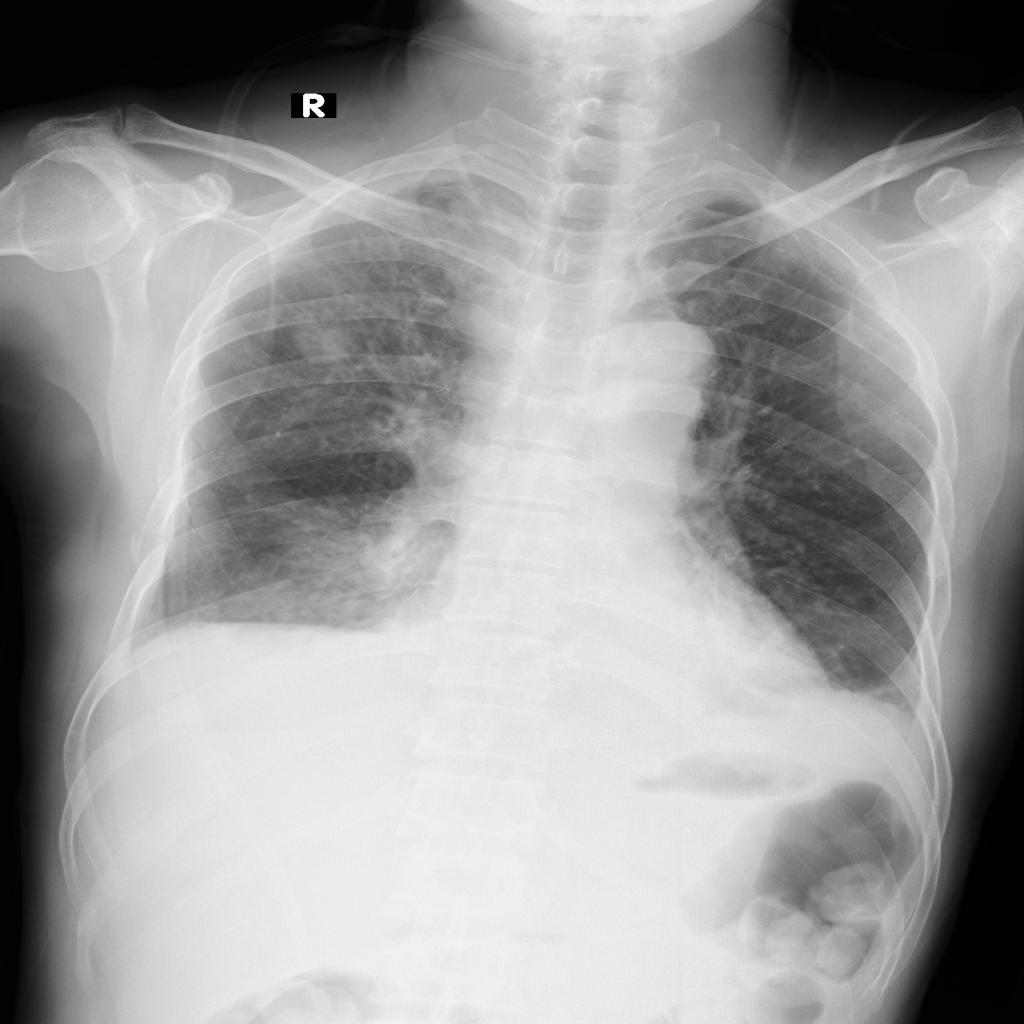Nodule: (294, 321, 362, 362)
